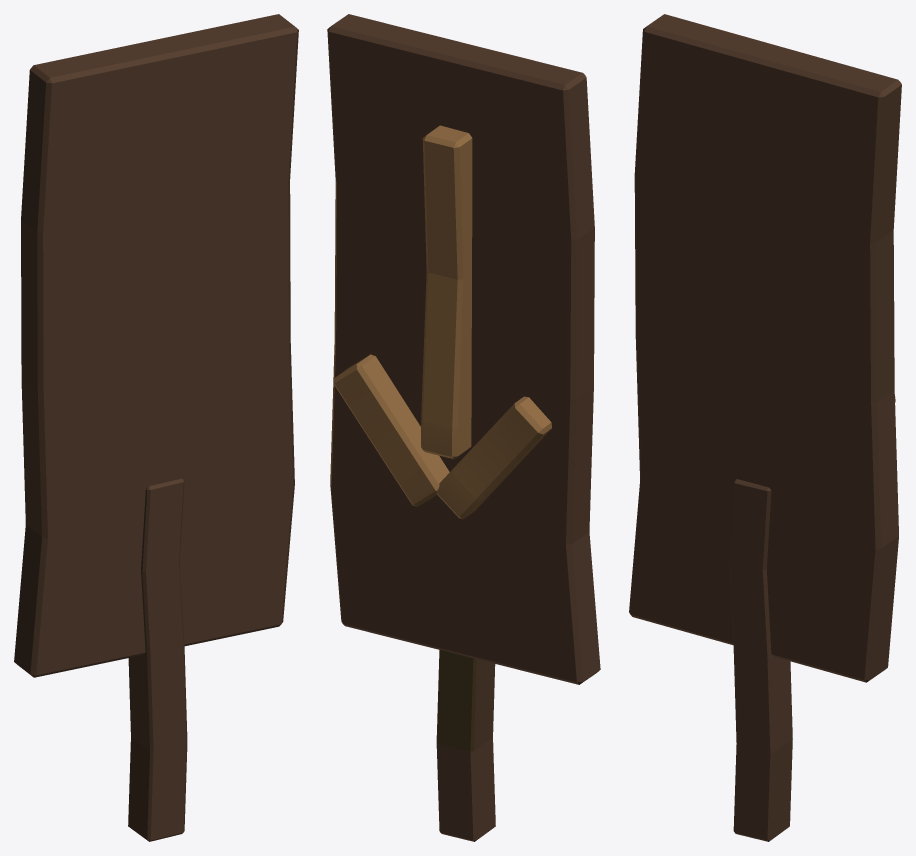
Rendered from SchildUnten.fbx.
3 views of the same model, side by side, from view 1: azimuth 30°, elevation 25°; view 2: azimuth 150°, elevation 25°; view 3: azimuth 330°, elevation 25° (orthographic).
Parts seen in each view (by area): view 1: SchildUnten; view 2: SchildUnten; view 3: SchildUnten.
Boxes of the visible parts, x1,y1,x2,y2 form: SchildUnten: (14,14,298,841); SchildUnten: (327,14,600,841); SchildUnten: (629,14,901,841).
Bounding box in the file's own units: 299 × 852 × 80.04.
